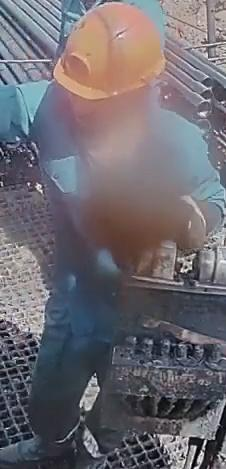gloves: (107, 187, 216, 259)
helmet: (52, 0, 166, 100)
vest: (37, 80, 198, 346)
